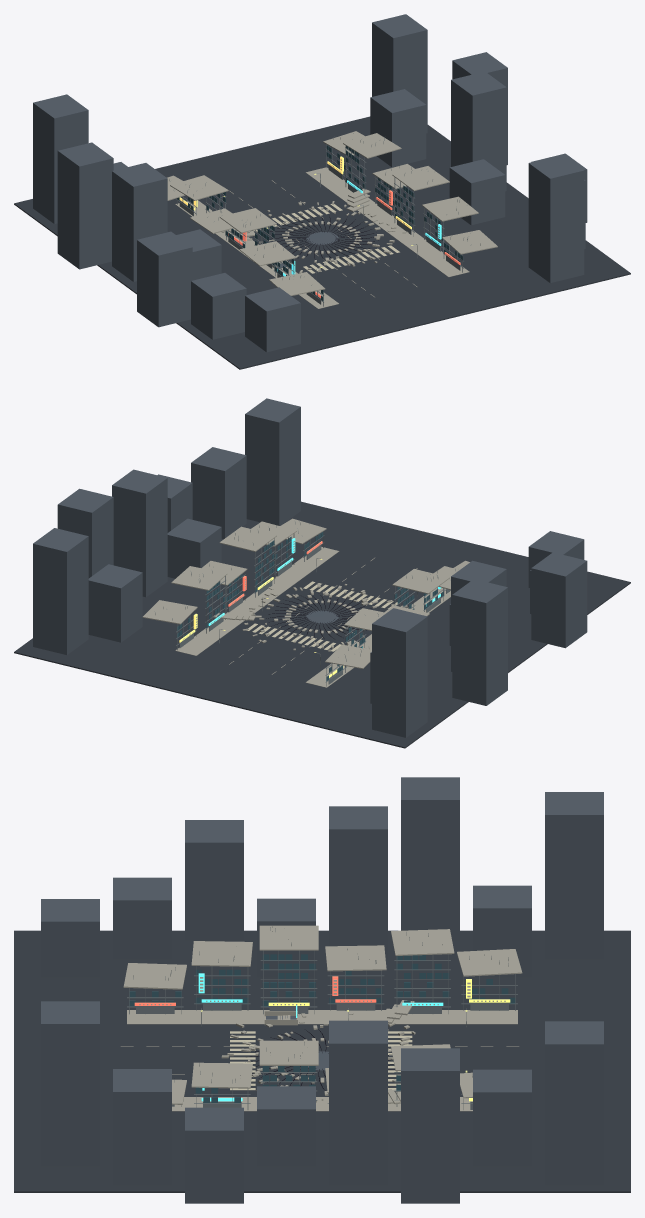
The model's file is shibuya-final.glb.
3 views of the same model, one above another, from view 1: azimuth 30°, elevation 25°; view 2: azimuth 150°, elevation 25°; view 3: azimuth 270°, elevation 25° (orthographic). The views are drawn at different scales.
Parts seen in each view (by area): view 1: Charcoal concrete.002, shibuya_asphalt.001, Warm limestone.003, Oxidized steel.001, Smoked glass.003, Worn road paint.001, Domain black.001; view 2: Charcoal concrete.002, shibuya_asphalt.001, Warm limestone.003, Oxidized steel.001, Smoked glass.003, Worn road paint.001, Domain black.001; view 3: Charcoal concrete.002, shibuya_asphalt.001, Warm limestone.003, Oxidized steel.001, Smoked glass.003, Worn road paint.001.
Part boxes in pixels (x1,y1,x2,y2): Charcoal concrete.002: [33, 14, 587, 352]; shibuya_asphalt.001: [14, 116, 630, 369]; Warm limestone.003: [167, 131, 497, 308]; Oxidized steel.001: [169, 133, 480, 306]; Smoked glass.003: [177, 145, 463, 301]; Worn road paint.001: [230, 180, 416, 297]; Domain black.001: [267, 215, 378, 260]; Charcoal concrete.002: [33, 398, 587, 737]; shibuya_asphalt.001: [14, 501, 630, 748]; Warm limestone.003: [142, 518, 469, 687]; Oxidized steel.001: [154, 521, 458, 686]; Smoked glass.003: [177, 532, 443, 681]; Worn road paint.001: [229, 558, 417, 674]; Domain black.001: [266, 594, 371, 638]; Charcoal concrete.002: [41, 777, 603, 1203]; shibuya_asphalt.001: [14, 930, 630, 1192]; Warm limestone.003: [123, 925, 522, 1111]; Oxidized steel.001: [127, 926, 517, 1109]; Smoked glass.003: [129, 954, 515, 1102]; Worn road paint.001: [121, 1031, 518, 1090].
Size of what is drawn, in the model's own units: 263 by 63.16 by 240.
